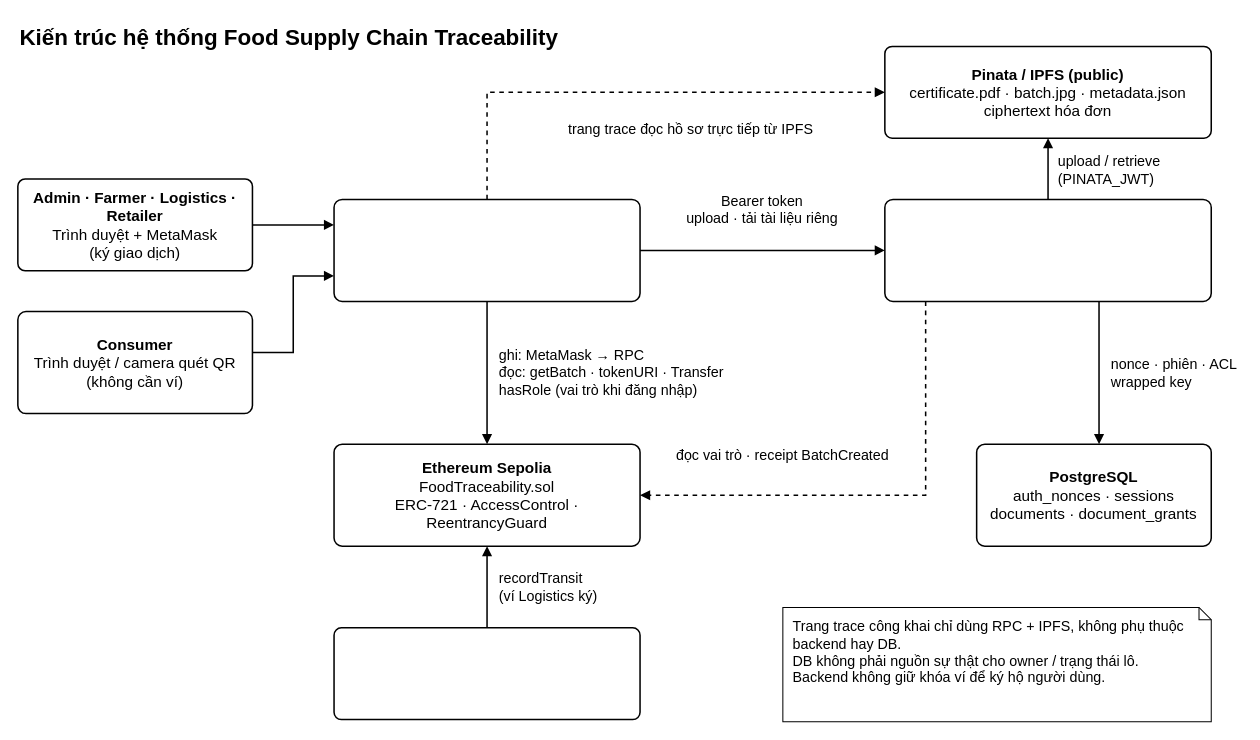
The diagram is 1260 pixels wide and 740 high, and some of its shapes have lost their labels. The shapes that lost their labels are listed below. From the top down, each one's centre as x and y in pixels, then its label:
the point at 486,250: Web DApp React 19 · Vite 7 · ethers 6 host tĩnh HTTPS
the point at 1048,250: Backend API FastAPI (Python 3.12) đăng nhập chữ ký ví · AES-256-GCM · ACL
the point at 486,673: IoT Simulator Python + web3.py 7.13 · readings.csv ví Logistics ký
